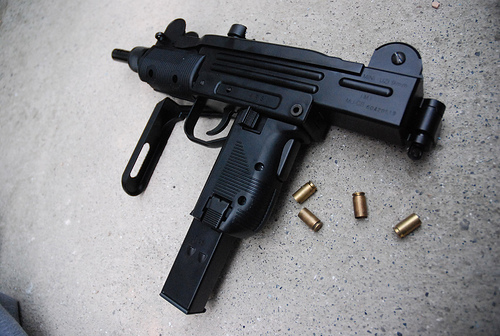rifle: (109, 17, 451, 310)
